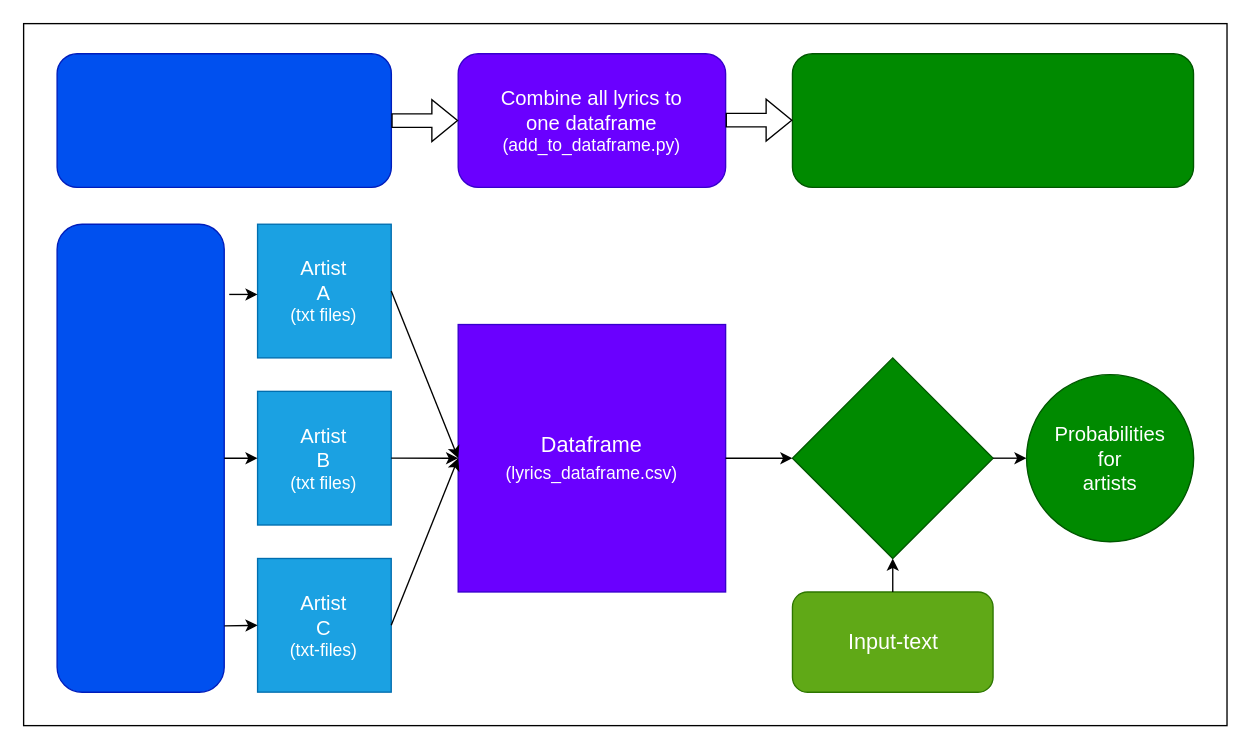
This 1251x749 diagram has some shape labels left out. Here are the shapes that lost their labels. From the top down, the centre of each, then its label:
the point at 223,119: Scrape lyrics of several artists from lyrics.com (get_lyrics.py)
the point at 992,119: Classify an input-text (classify_lyrics.py)
the point at 140,457: Lyrics.com
the point at 892,457: Naive Bayes classifier
